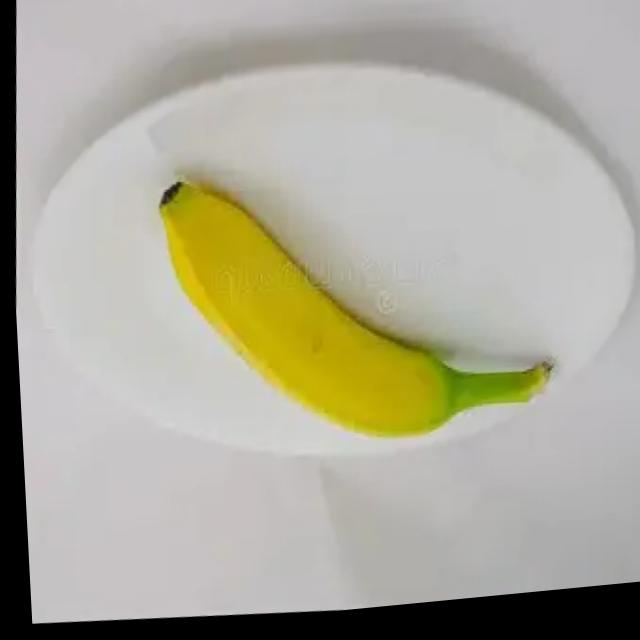BANANA: (156, 181, 552, 445)
